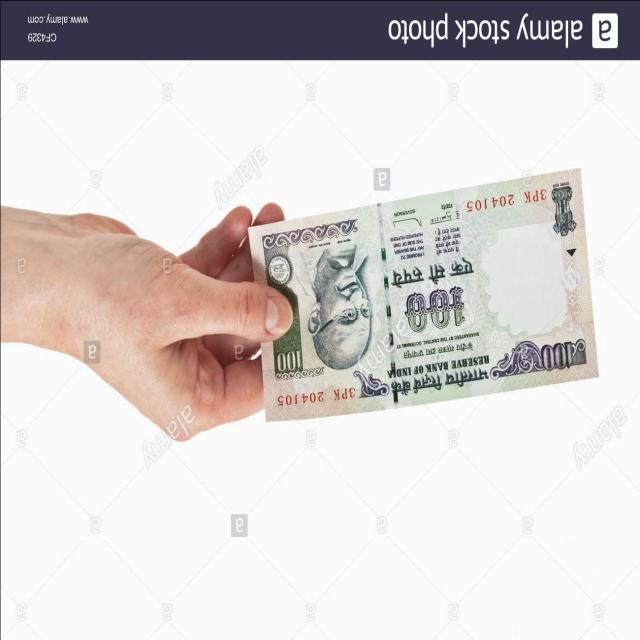100IndianRupees: (247, 166, 600, 423)
